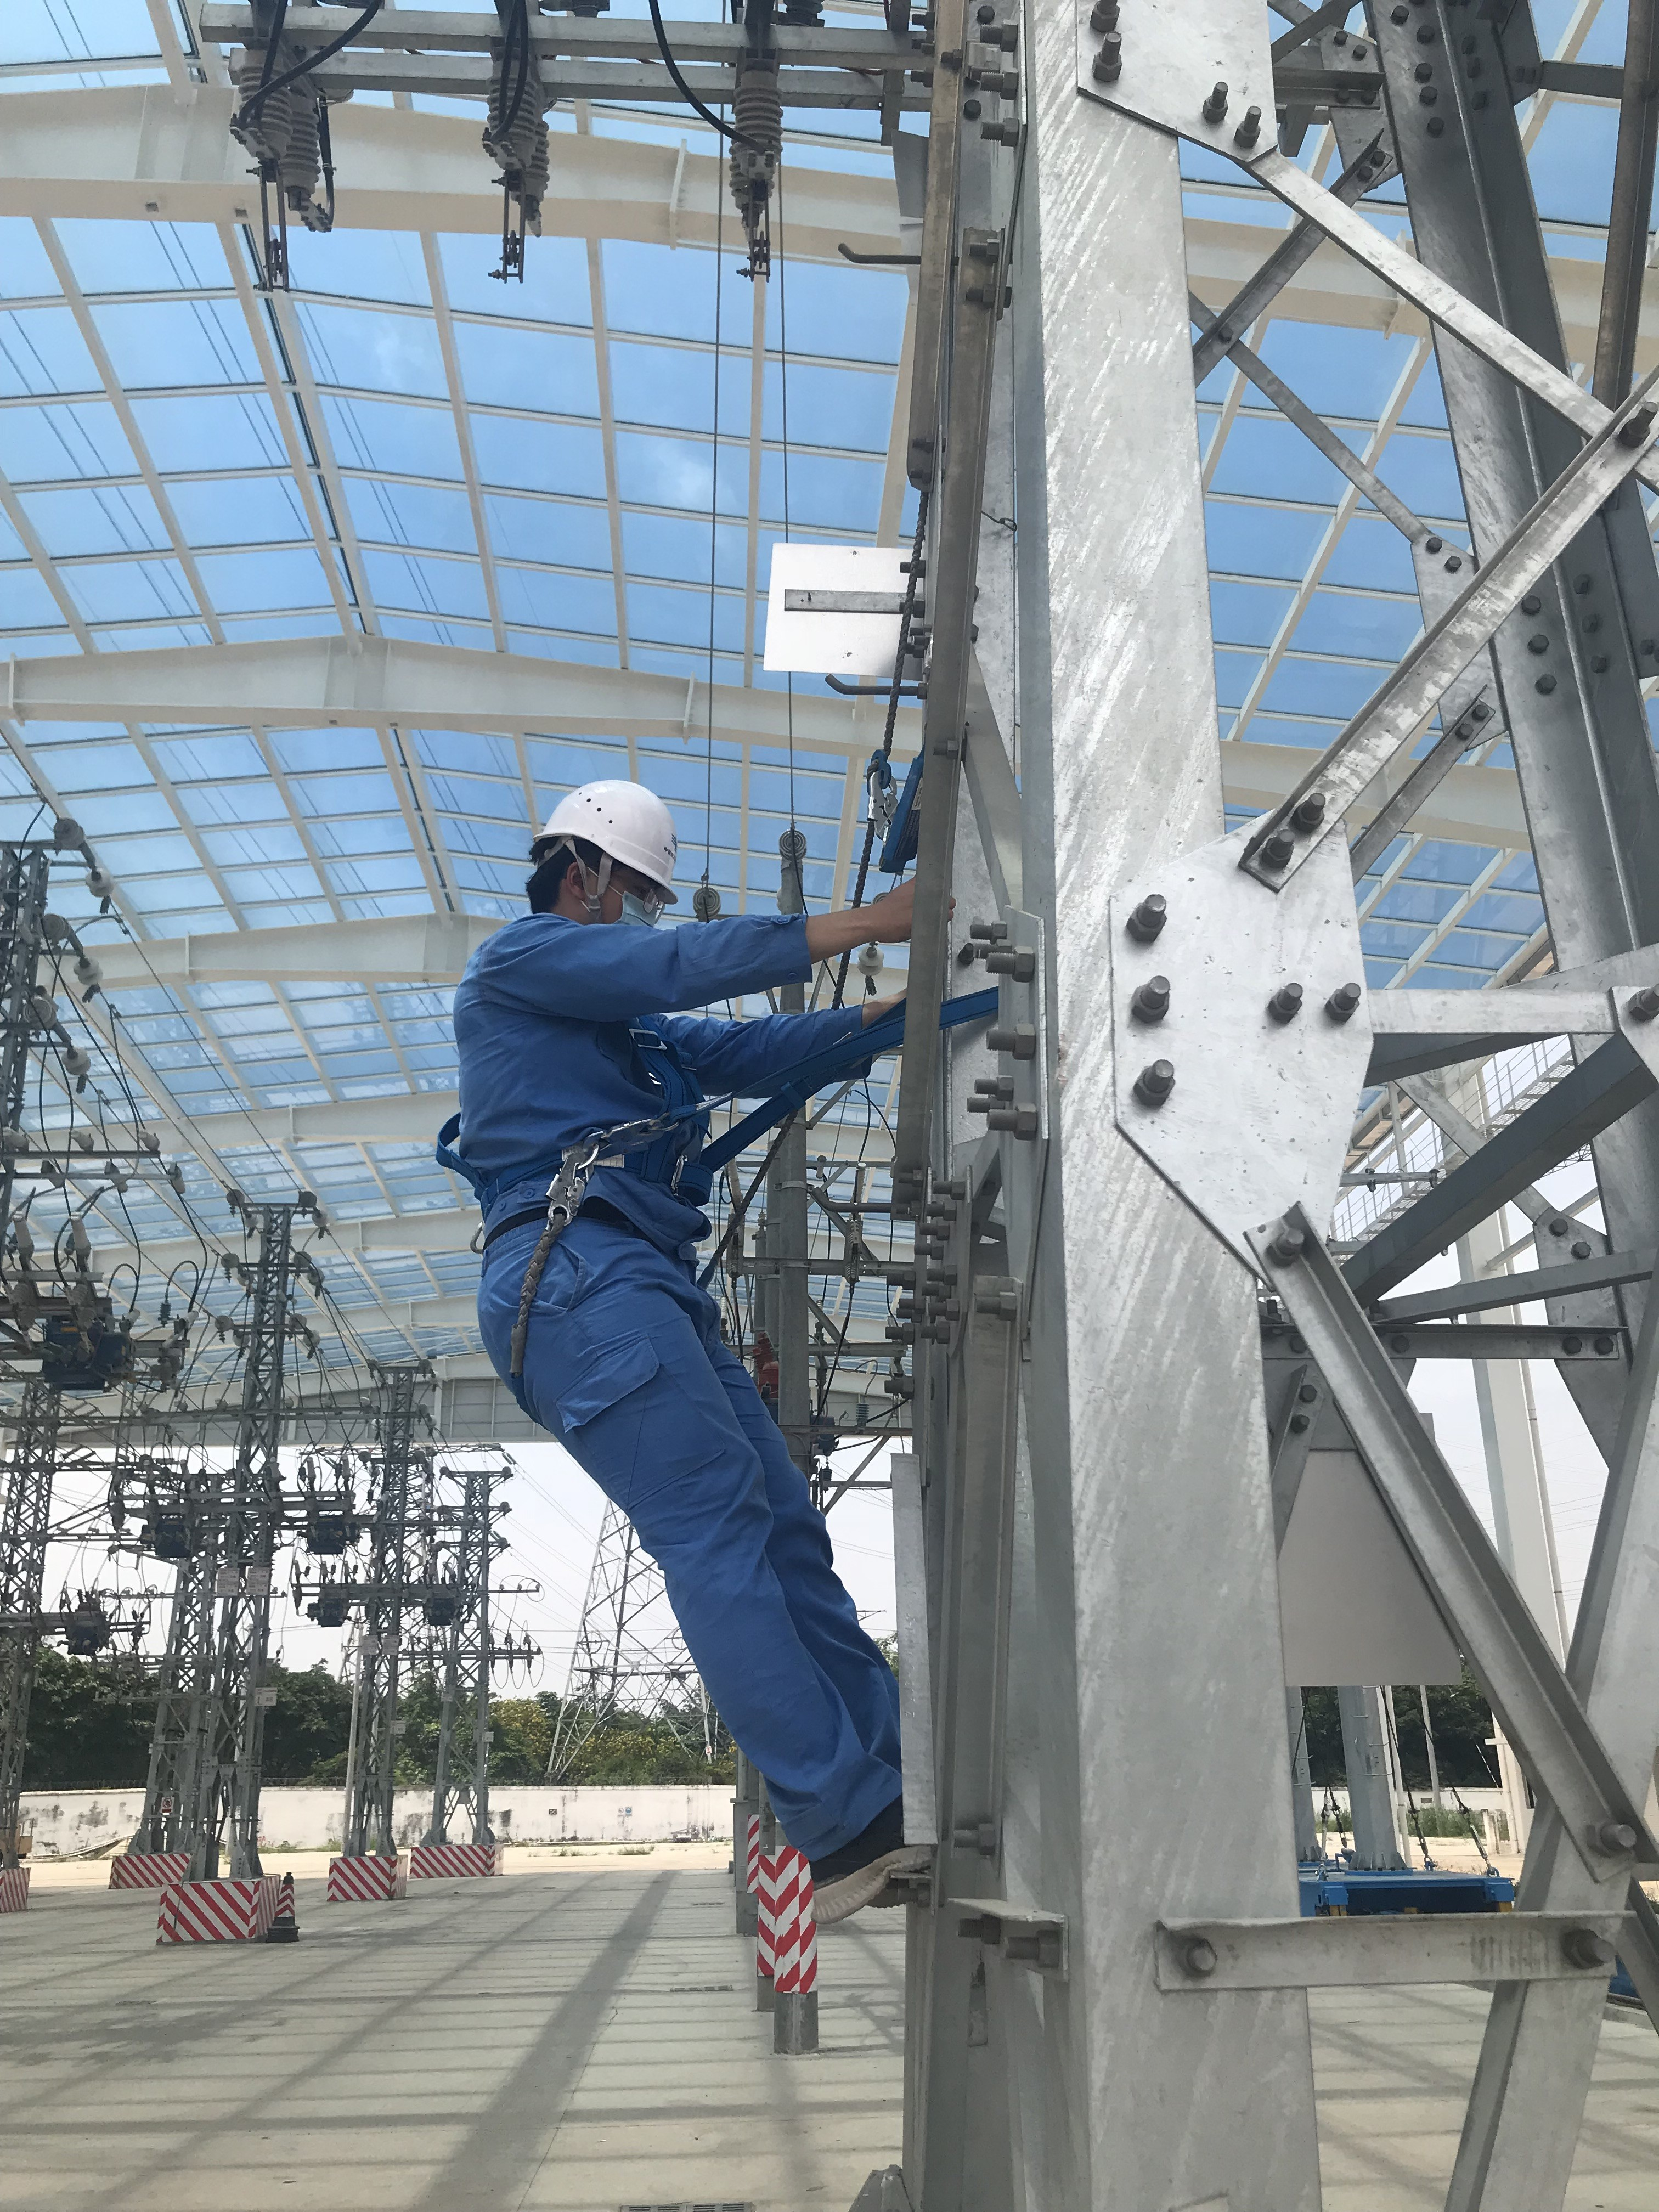downsuit: (488, 1306, 908, 1836)
upsuit: (457, 892, 812, 1240)
